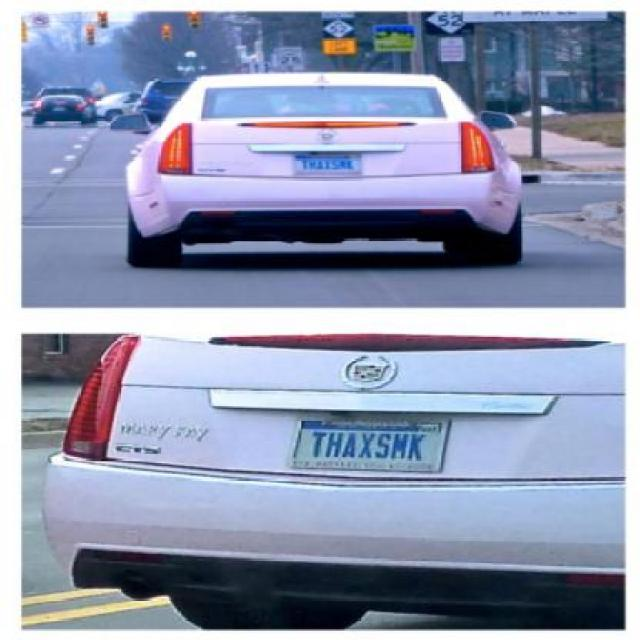License-Plates: (293, 419, 453, 474), (295, 152, 358, 175)
